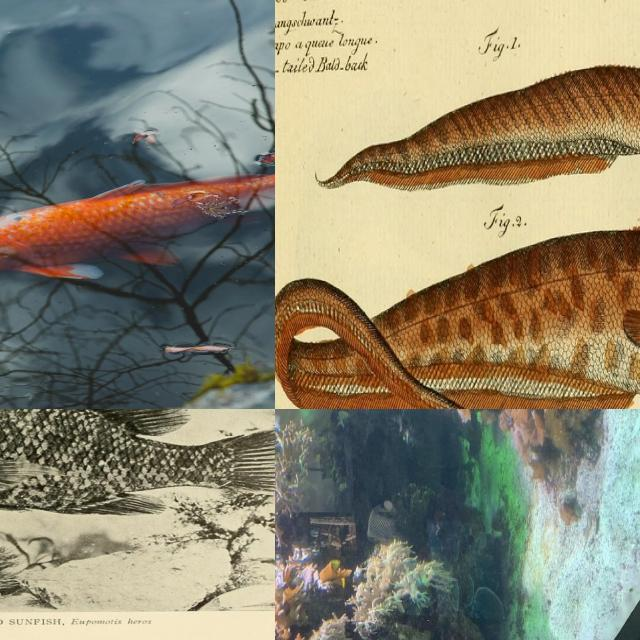fish: (0, 0, 275, 409), (315, 59, 640, 193)
